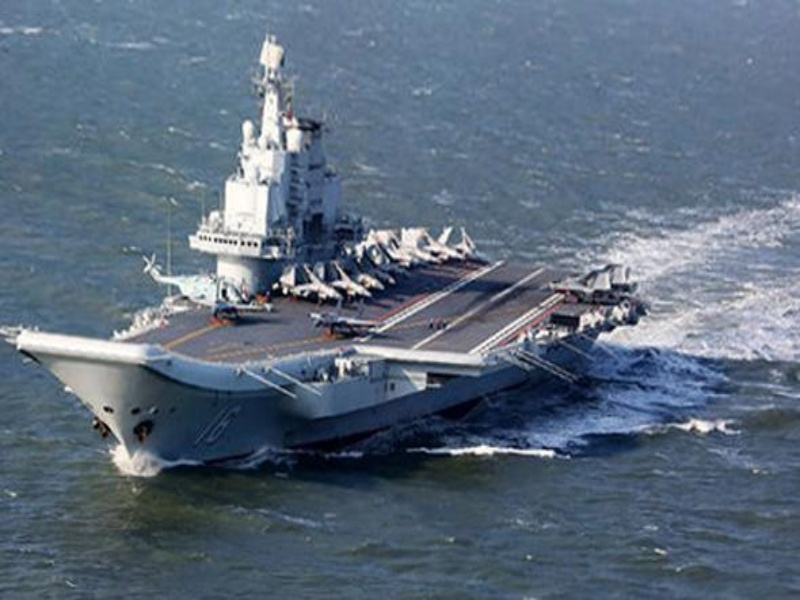carrier: (23, 69, 637, 468)
